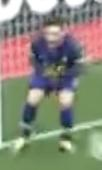goalkeeper: (5, 12, 89, 156)
